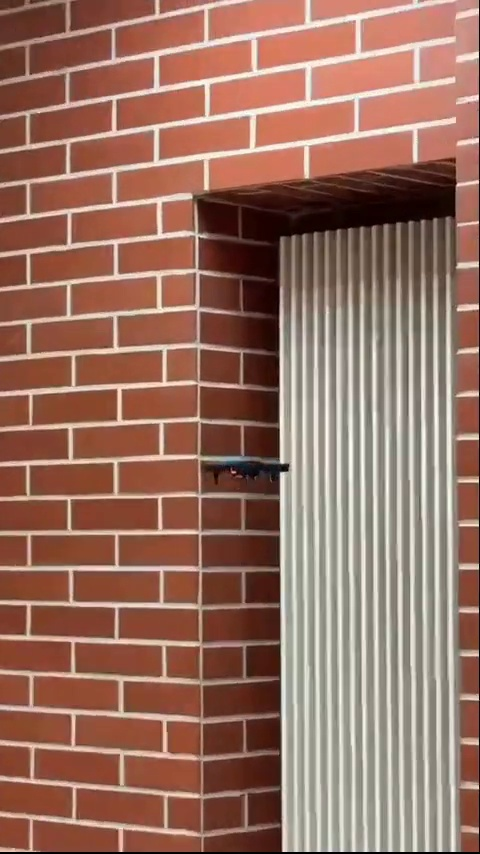drone: (201, 454, 296, 484)
